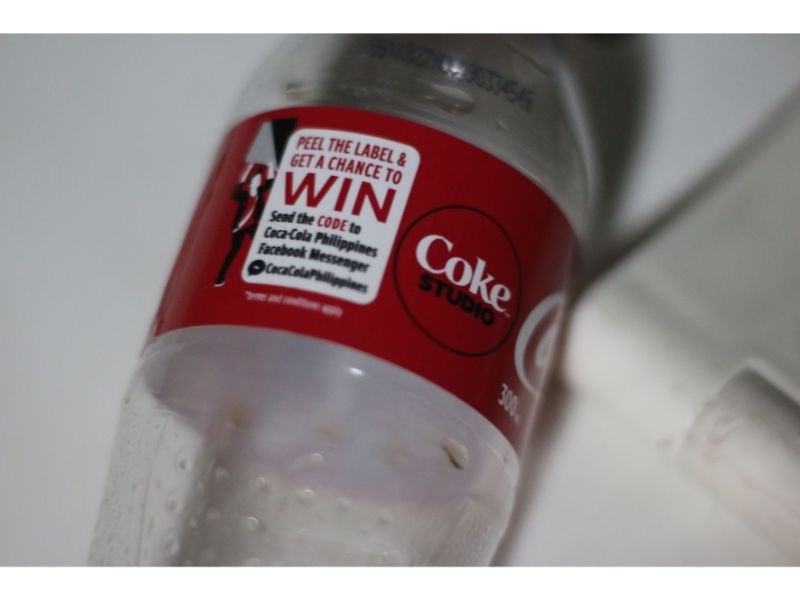PET #1: (88, 35, 591, 566)
